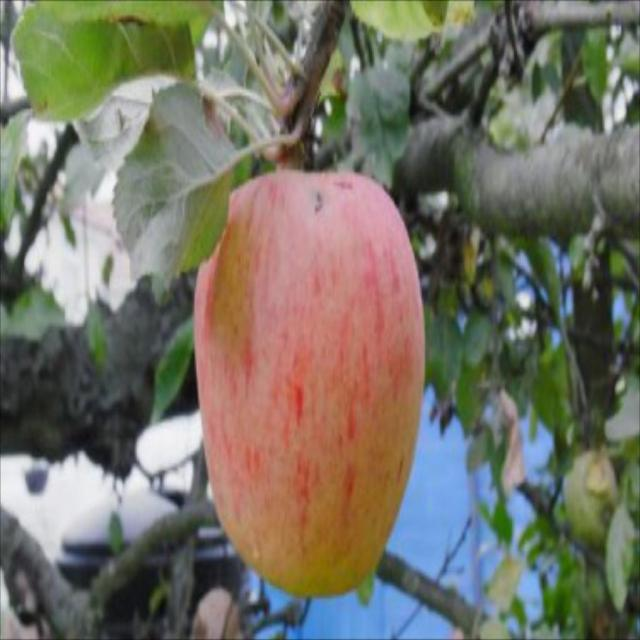Healty Apple: (193, 170, 425, 598), (562, 448, 620, 547)
